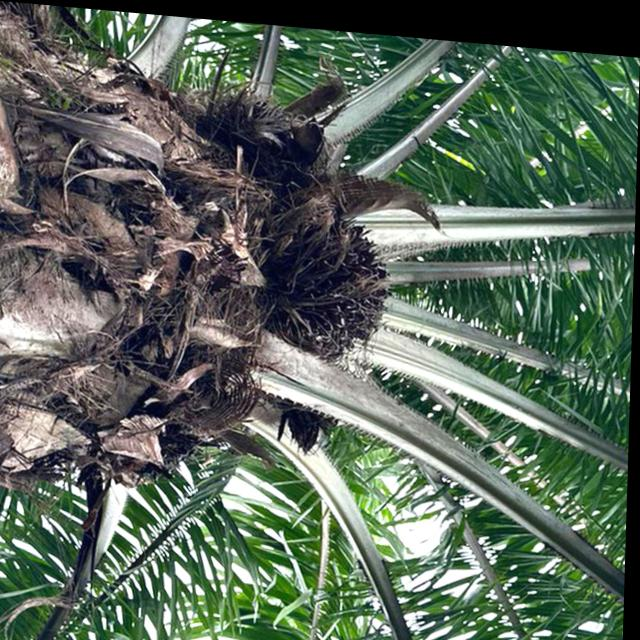almost: (270, 194, 397, 372)
